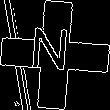N_S: (33, 28, 77, 82)
